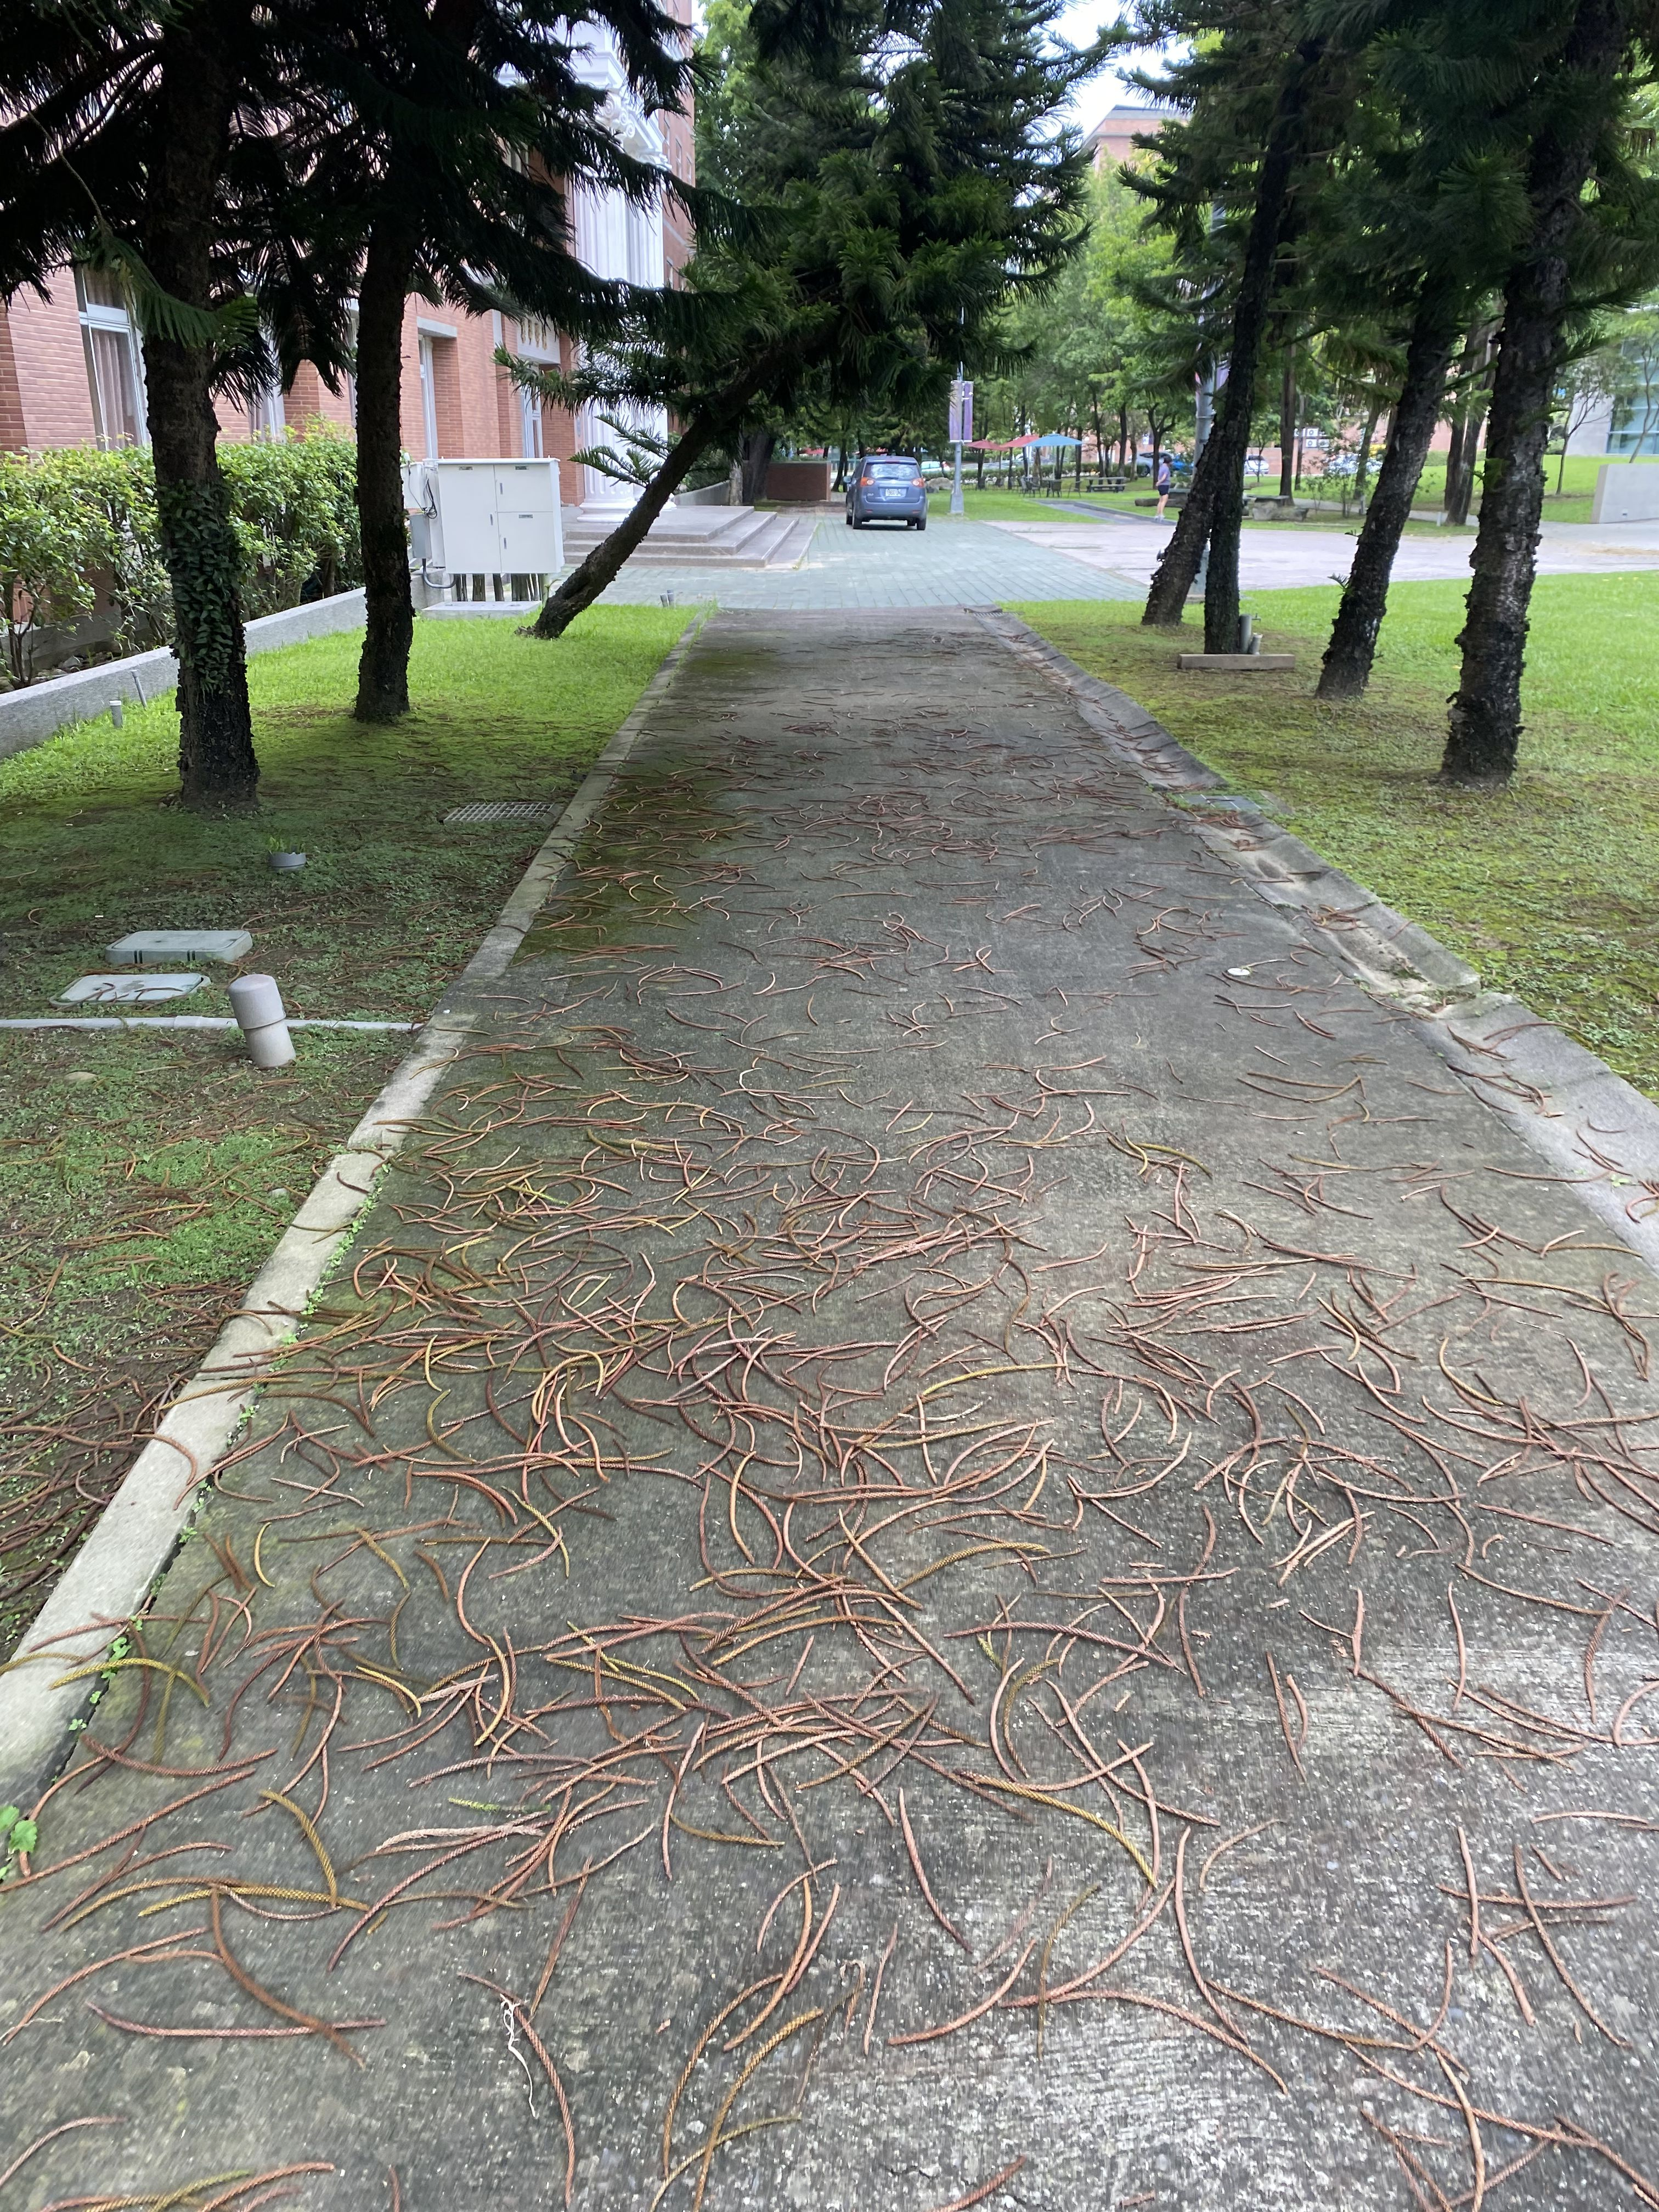sidewalk: (23, 573, 1659, 2212)
